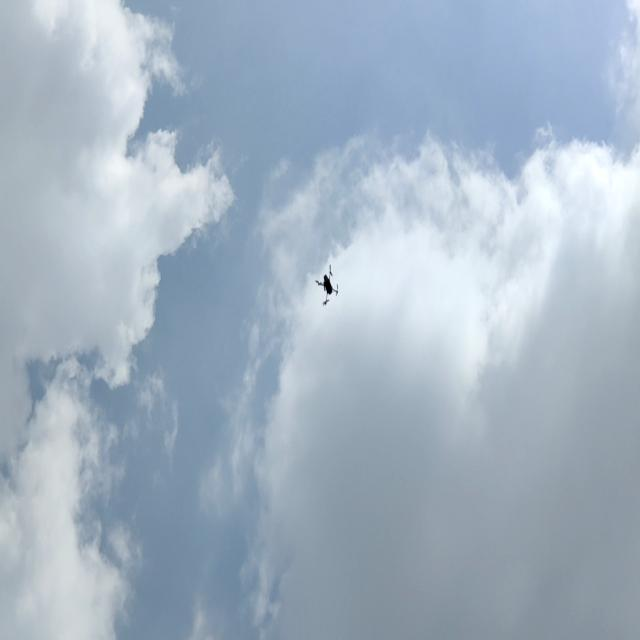drone: (311, 256, 347, 312)
